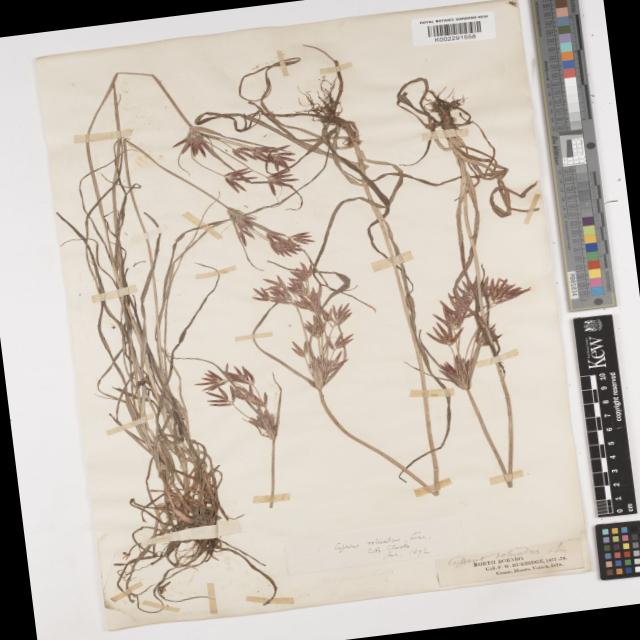cyperus: (414, 267, 541, 393), (248, 254, 359, 387), (176, 106, 302, 200), (190, 356, 283, 443), (220, 188, 318, 266)
